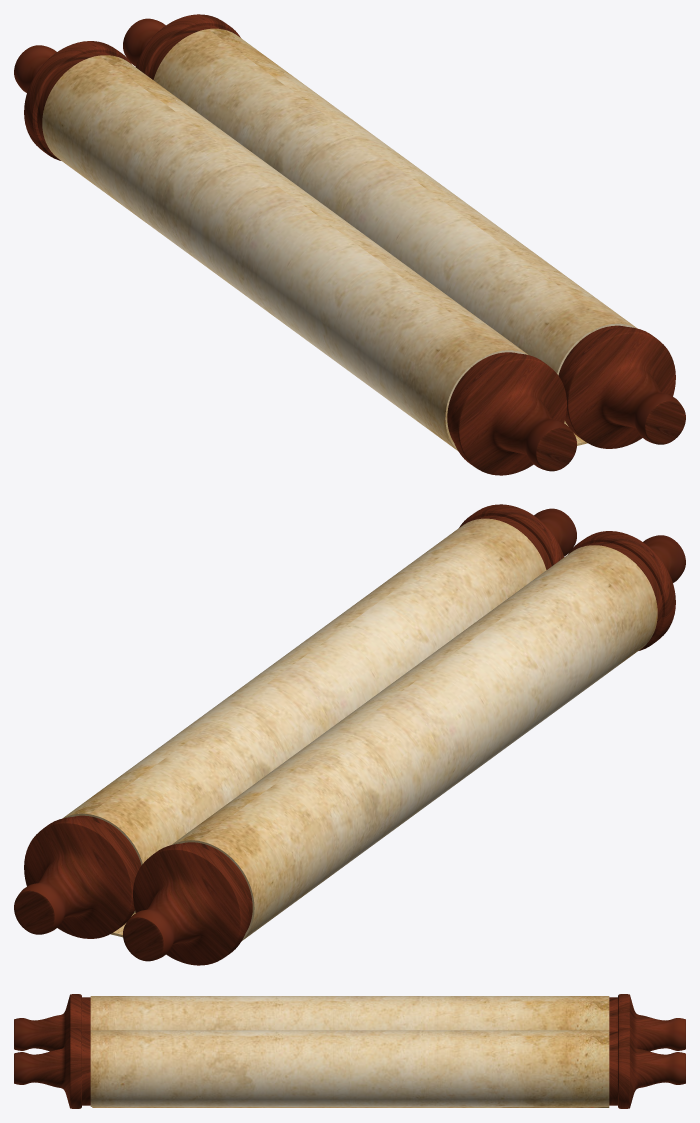
The model's file is Scroll Closed.fbx.
3 renders of one model, top to bottom at view 1: azimuth 30°, elevation 25°; view 2: azimuth 150°, elevation 25°; view 3: azimuth 270°, elevation 25°, orthographic. The views are drawn at different scales.
Visible parts, largest first — view 1: ScrollLeft.002, ScrollRight.002; view 2: ScrollLeft.002, ScrollRight.002; view 3: ScrollRight.002, ScrollLeft.002, Plane.006.
Boxes of the visible parts, x1,y1,x2,y2 form: ScrollLeft.002: (14, 41, 576, 475); ScrollRight.002: (123, 14, 685, 448); ScrollLeft.002: (123, 531, 685, 965); ScrollRight.002: (14, 504, 576, 938); ScrollRight.002: (14, 1028, 685, 1108); ScrollLeft.002: (14, 994, 685, 1051); Plane.006: (92, 1107, 609, 1107).
Bounding box in the file's own units: 8.73 × 4.51 × 36.28.
Materials: 2 (2 with a texture image).
